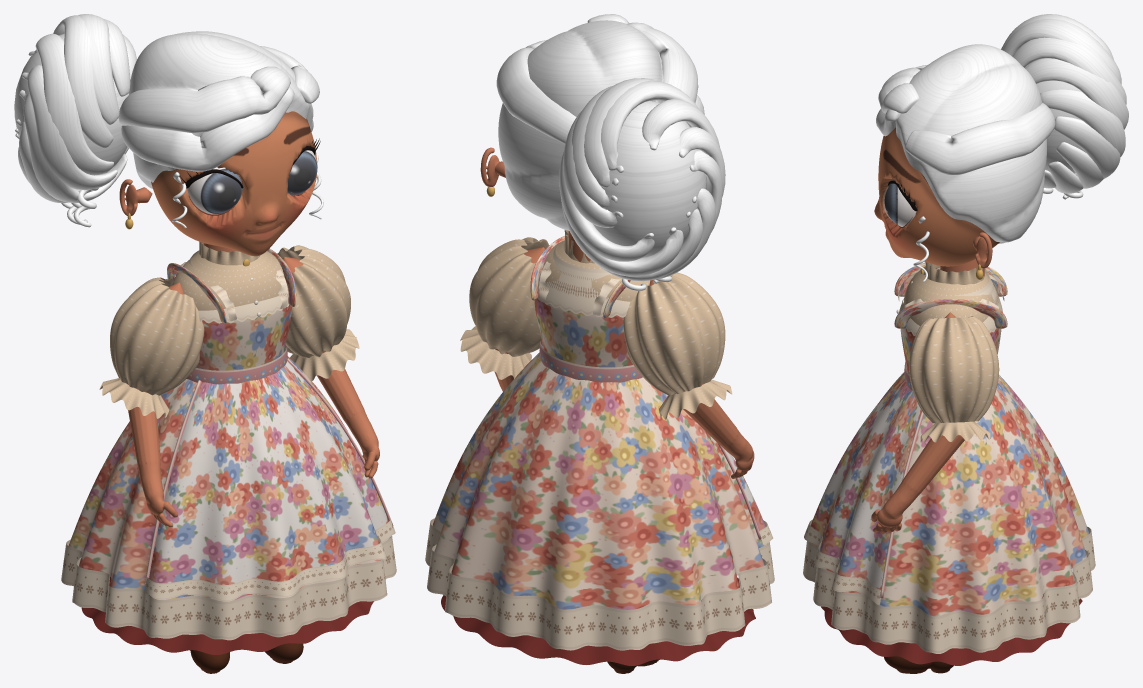
The model's file is naomi_game.glb.
The picture shows the model from 3 angles, left to right: view 1: azimuth 30°, elevation 25°; view 2: azimuth 150°, elevation 25°; view 3: azimuth 270°, elevation 25°; orthographic projection. The views are drawn at different scales.
Parts seen in each view (by area): view 1: Apron, Lace, Skirt, Head, Sleeve-1, HairCap, HairClump_S2, Sleeve1, HairClump_S1, Bodice, ApronLace, Underskirt (+27 smaller); view 2: Skirt, Lace, HairCap, Sleeve-1, BunCore, Sleeve1, Underskirt, Bodice, HairClump_L1, Yoke, BunLock8, HairClump_S2 (+17 smaller); view 3: Skirt, HairCap, Lace, Apron, Sleeve1, Head, HairClump_L1, Underskirt, Arm1, BunLock0, Blouse, BunLock10 (+20 smaller).
Part boxes in pixels (x1,y1,x2,y2): Apron: (149, 361, 388, 584); Lace: (61, 536, 396, 640); Skirt: (68, 356, 389, 601); Head: (151, 111, 316, 256); Sleeve-1: (110, 277, 204, 395); HairCap: (129, 31, 313, 188); HairClump_S2: (118, 66, 290, 133); Sleeve1: (277, 245, 350, 357); HairClump_S1: (121, 86, 294, 171); Bodice: (196, 305, 292, 370); ApronLace: (145, 519, 395, 601); Underskirt: (81, 577, 373, 654); Skirt: (432, 352, 766, 609); Lace: (425, 518, 774, 650); HairCap: (498, 20, 663, 230); Sleeve-1: (623, 272, 725, 395); BunCore: (593, 101, 706, 257); Sleeve1: (469, 237, 549, 356); Underskirt: (441, 578, 755, 665); Bodice: (534, 298, 632, 367); HairClump_L1: (496, 40, 576, 143); Yoke: (538, 247, 630, 317); BunLock8: (601, 80, 698, 172); HairClump_S2: (587, 14, 698, 102); Skirt: (810, 375, 1088, 616); HairCap: (895, 44, 1046, 243); Lace: (803, 526, 1095, 653); Apron: (810, 372, 921, 589); Sleeve1: (909, 316, 999, 422); Head: (874, 127, 999, 266); HairClump_L1: (905, 102, 1055, 174); Underskirt: (821, 593, 1082, 665); Arm1: (871, 312, 964, 534); BunLock0: (1025, 58, 1128, 129); Blouse: (903, 266, 993, 325); BunLock10: (1012, 37, 1126, 104).
Bounding box in the file's own units: 0.5313 × 1.01 × 0.5012.
18 materials, 9 textured.
